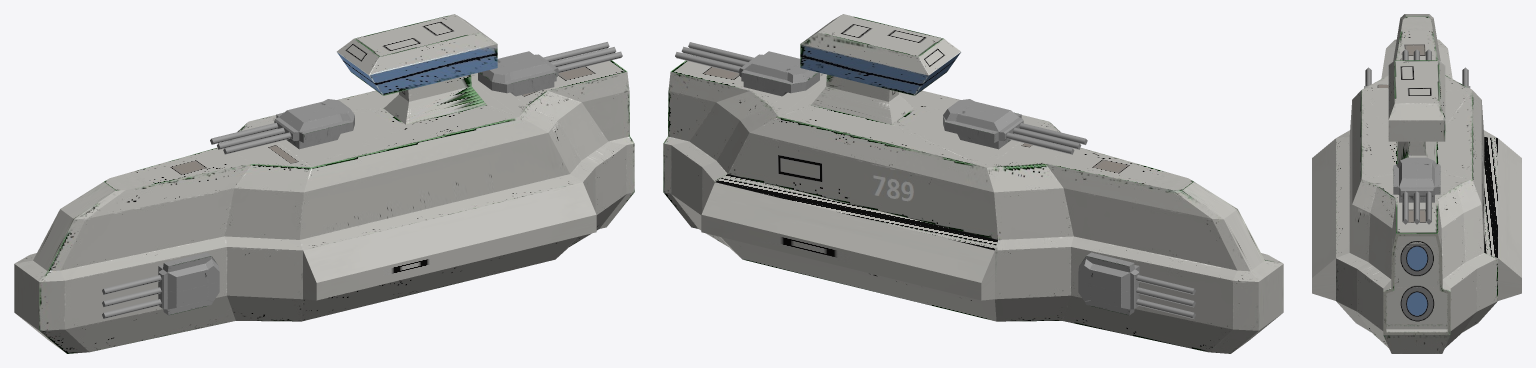
The model's file is kreiser.FBX.
3 renders of one model, left to right at view 1: azimuth 30°, elevation 25°; view 2: azimuth 150°, elevation 25°; view 3: azimuth 270°, elevation 25°, orthographic. The views are drawn at different scales.
Visible parts, largest first — view 1: Box001, Box004, Box002, Box003; view 2: Box001, Box005, Box002, Box003; view 3: Box001, Box003, Box002.
Part boxes in pixels (x1=…): Box001: x1=14, y1=14, x2=634, y2=353; Box004: x1=102, y1=252, x2=219, y2=318; Box002: x1=210, y1=99, x2=354, y2=154; Box003: x1=478, y1=42, x2=622, y2=96; Box001: x1=663, y1=14, x2=1283, y2=353; Box005: x1=1078, y1=252, x2=1195, y2=318; Box002: x1=943, y1=99, x2=1087, y2=154; Box003: x1=675, y1=42, x2=819, y2=96; Box001: x1=1312, y1=14, x2=1521, y2=353; Box003: x1=1393, y1=157, x2=1440, y2=224; Box002: x1=1402, y1=49, x2=1431, y2=60.
Size of the model in its own units: 147 by 53.55 by 51.73.
Materials: 2 (2 with a texture image).
